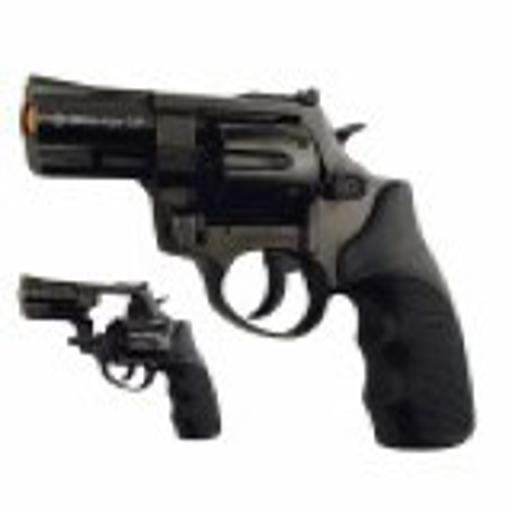Handgun: (18, 63, 479, 451), (11, 267, 223, 451)
